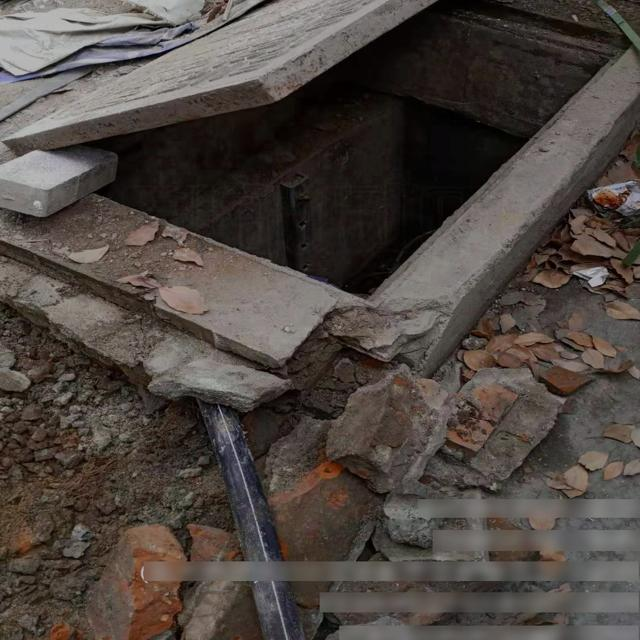uncovered: (0, 0, 640, 395)
